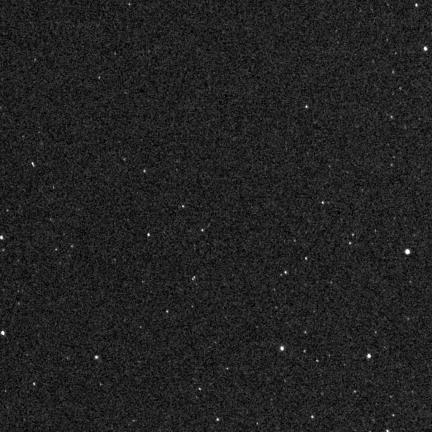blob: (405, 249, 410, 255), (367, 354, 371, 358), (1, 331, 5, 335), (280, 346, 284, 350), (424, 46, 427, 51), (148, 233, 150, 237)
